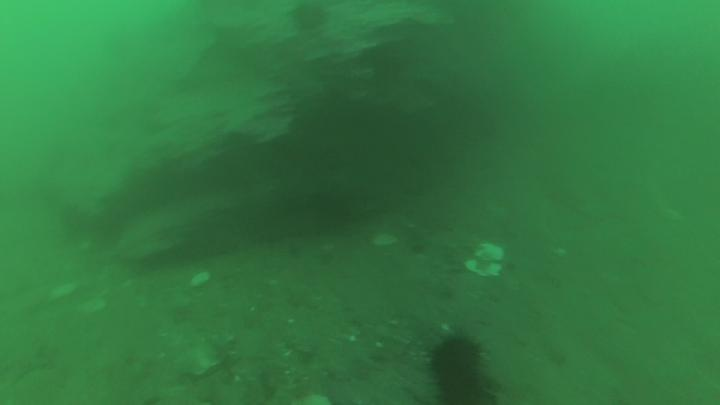echinus: (426, 324, 495, 405), (293, 1, 328, 38)
